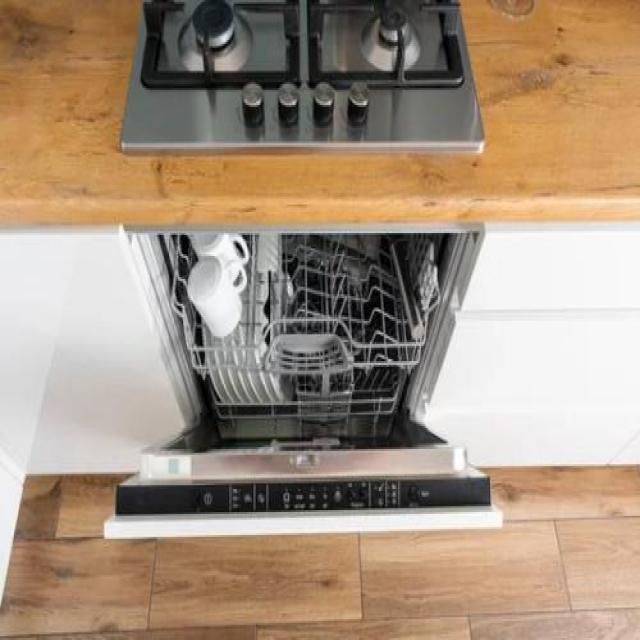dishwasher: (98, 208, 506, 535)
